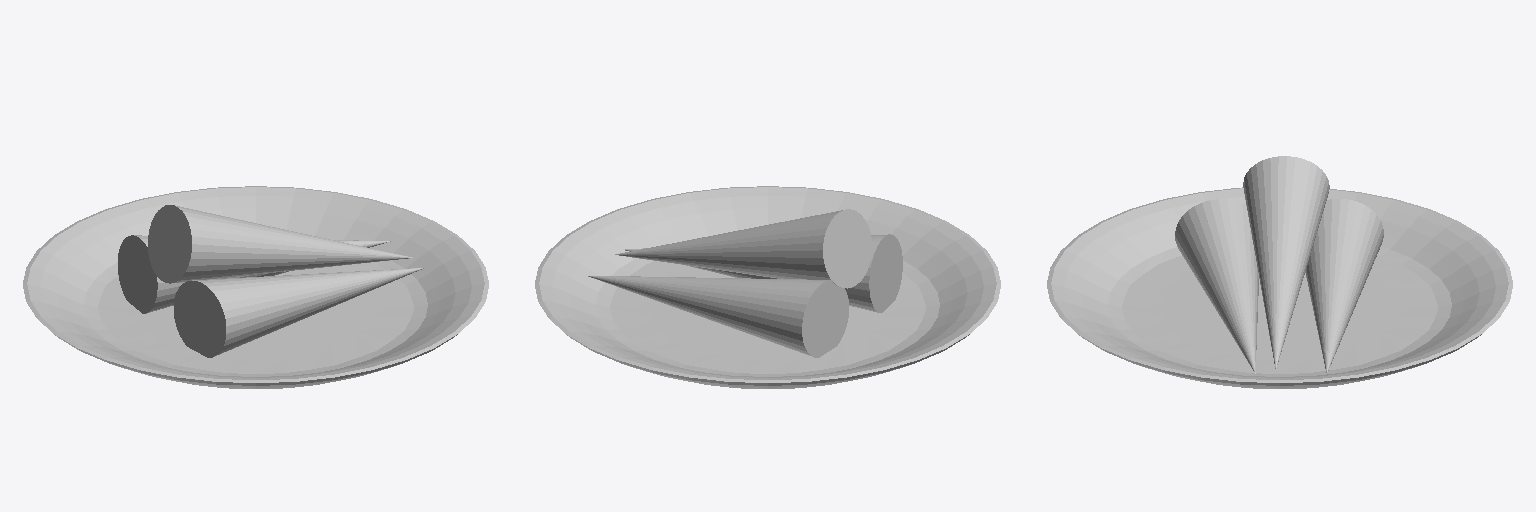
The model's file is kue clorot.obj.
3 renders of one model, left to right at view 1: azimuth 30°, elevation 25°; view 2: azimuth 150°, elevation 25°; view 3: azimuth 270°, elevation 25°, orthographic.
Parts seen in each view (by area): view 1: Cylinder, Cone.002_Cone.003, Cone.001, Cone; view 2: Cylinder, Cone, Cone.002_Cone.003, Cone.001; view 3: Cylinder, Cone.002_Cone.003, Cone.001, Cone.
Boxes of the visible parts, x1=… form: Cylinder: x1=23, y1=186, x2=488, y2=388; Cone.002_Cone.003: x1=148, y1=205, x2=412, y2=283; Cone.001: x1=174, y1=268, x2=423, y2=357; Cone: x1=118, y1=235, x2=390, y2=313; Cylinder: x1=535, y1=186, x2=1000, y2=388; Cone: x1=588, y1=276, x2=848, y2=357; Cone.002_Cone.003: x1=615, y1=209, x2=871, y2=288; Cone.001: x1=625, y1=234, x2=902, y2=312; Cylinder: x1=1047, y1=187, x2=1512, y2=388; Cone.002_Cone.003: x1=1243, y1=156, x2=1329, y2=368; Cone.001: x1=1175, y1=199, x2=1258, y2=373; Cone: x1=1305, y1=199, x2=1383, y2=372.
Bounding box in the file's own units: 2.31 × 0.6962 × 2.31.